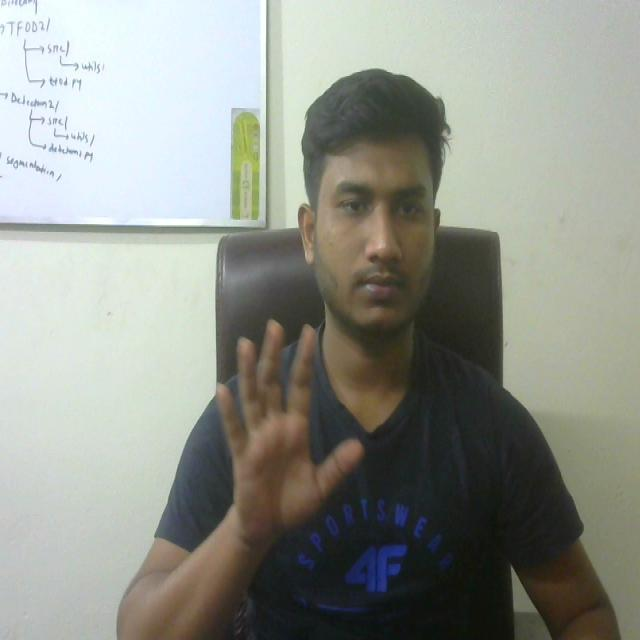Hello: (203, 302, 370, 570)
